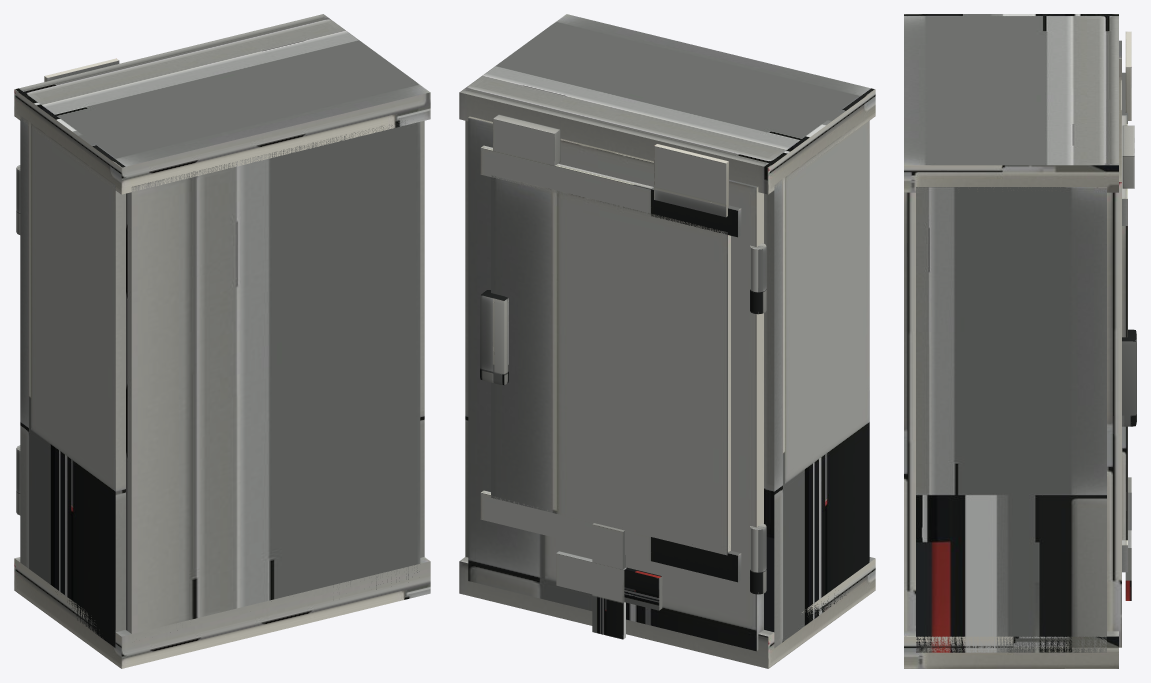
File: PR_medical_cabinet.glb
The picture shows the model from 3 angles, left to right: view 1: azimuth 30°, elevation 25°; view 2: azimuth 150°, elevation 25°; view 3: azimuth 270°, elevation 25°; orthographic projection.
Parts seen in each view (by area): view 1: PR_medical_cabinet; view 2: PR_medical_cabinet; view 3: PR_medical_cabinet.
Part boxes in pixels (bbox=[...]): PR_medical_cabinet: bbox=[14, 14, 430, 668]; PR_medical_cabinet: bbox=[459, 14, 875, 668]; PR_medical_cabinet: bbox=[904, 14, 1136, 668].
Size of the model in its own units: 0.6 by 0.93 by 0.39.
1 material, 1 textured.
